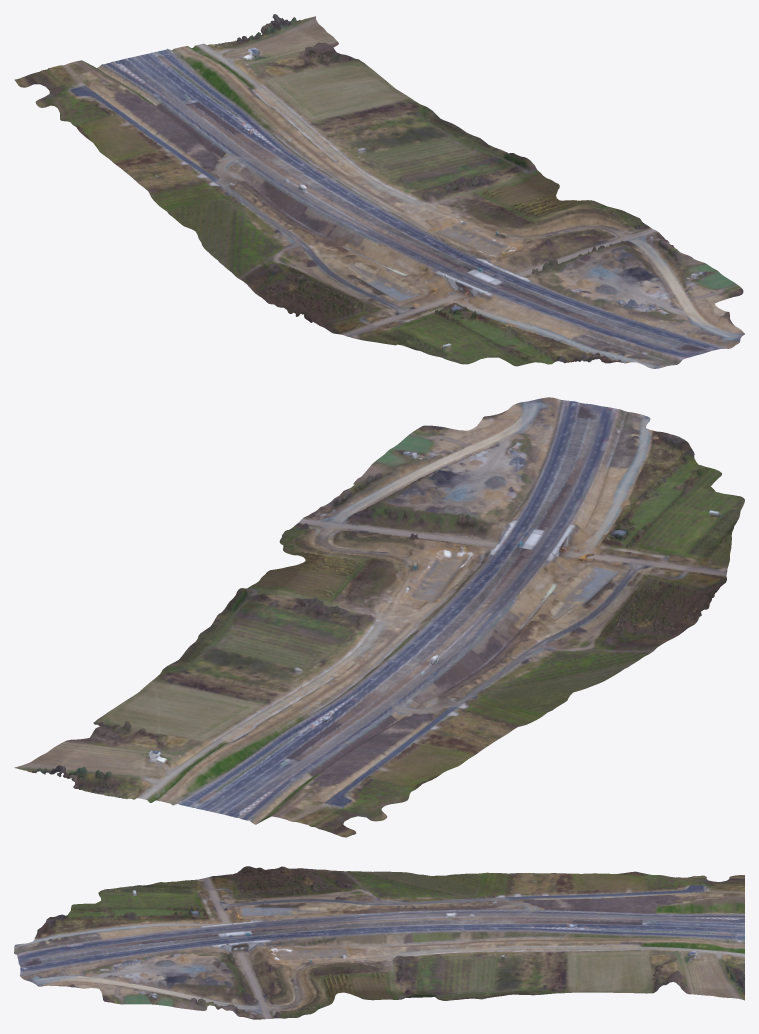
File: s5_w.trzebnica_11.2017.glb
3 renders of one model, top to bottom at view 1: azimuth 30°, elevation 25°; view 2: azimuth 150°, elevation 25°; view 3: azimuth 270°, elevation 25°, orthographic. The views are drawn at different scales.
Visible parts, largest first — view 1: mesh_out_node; view 2: mesh_out_node; view 3: mesh_out_node.
Boxes of the visible parts, box(x1,y1,x2,y2) form: mesh_out_node: box(14, 14, 744, 368); mesh_out_node: box(14, 397, 744, 837); mesh_out_node: box(14, 866, 744, 1019).
Bounding box in the file's own units: 304 × 21.11 × 649.
1 material, 1 textured.
